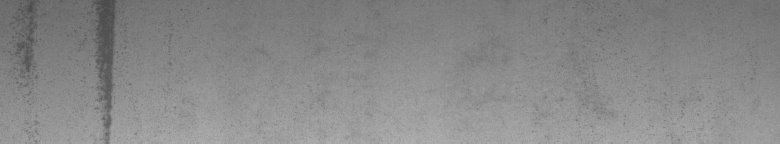hd: (4, 4, 127, 136)
